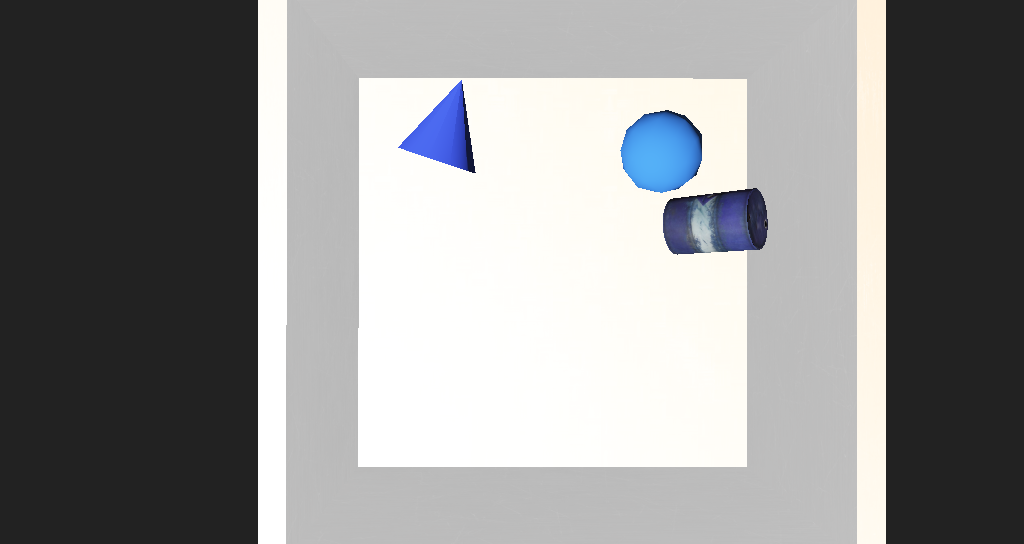cone: (589, 220, 677, 258)
cylinder: (381, 150, 468, 222)
sphere: (552, 184, 620, 227)
